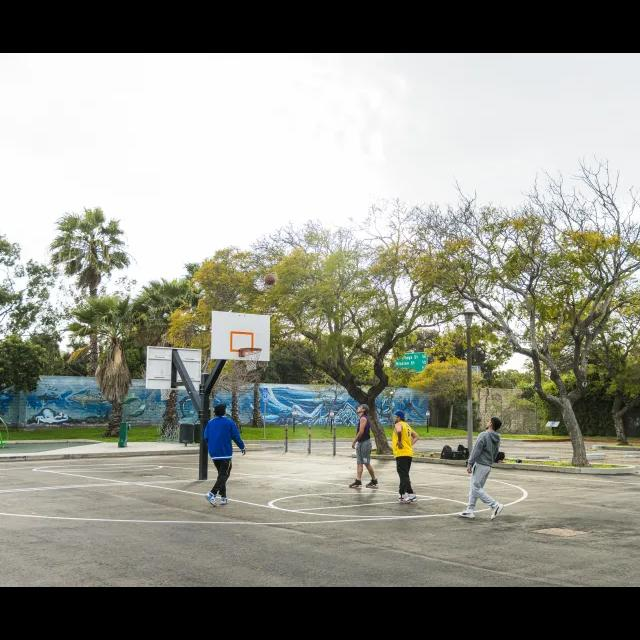basketball: (265, 274, 276, 285)
hoop: (239, 347, 262, 371), (160, 388, 172, 401)
